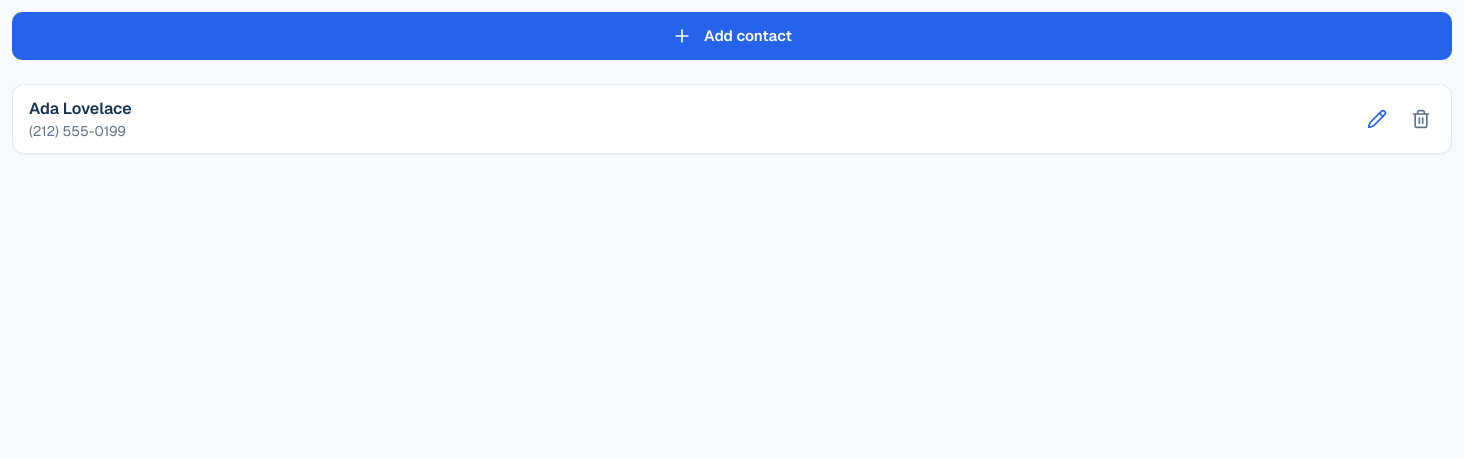
Test: ContactManager › opens edit from the explicit Edit action
Click the button named "Edit Ada Lovelace". click: [1377, 119]
box: 1355,97 -> 1399,141
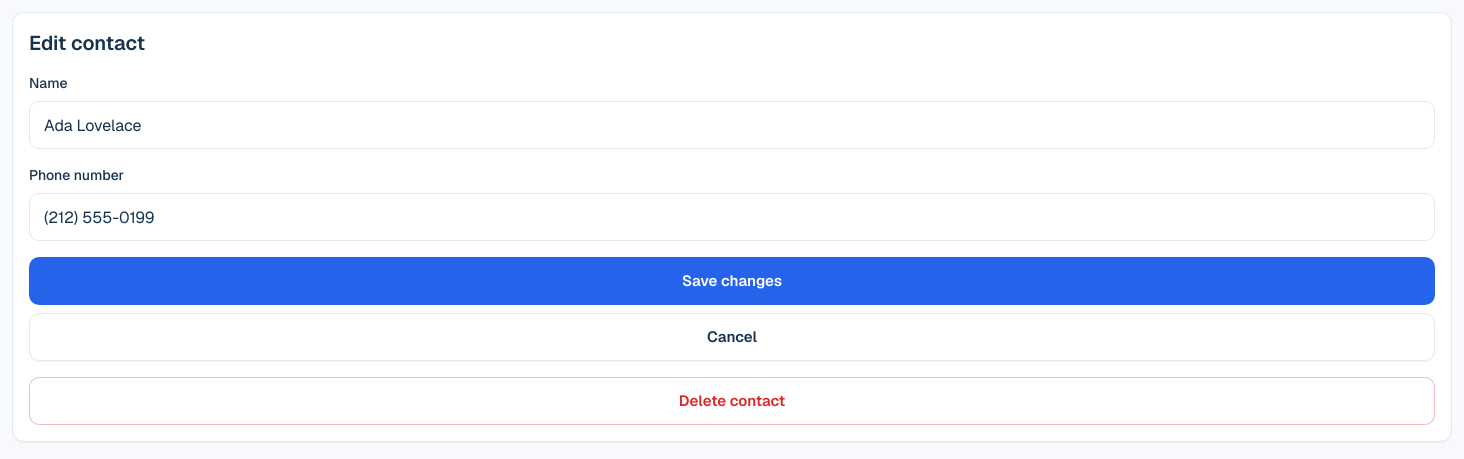
Result: the heading "Edit contact" is shown at 29,30 -> 145,56
Result: the field labelled "Name" holds "Ada Lovelace" at 29,101 -> 1435,149
